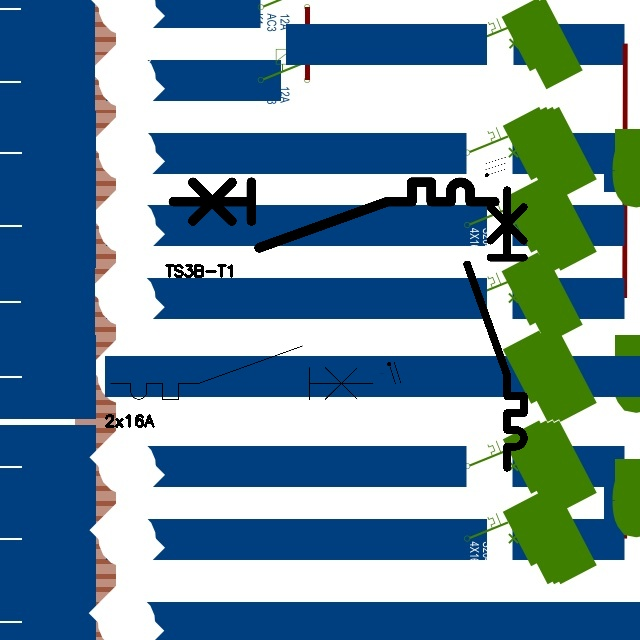interruptor_termomagnetico: (165, 174, 503, 256), (460, 183, 531, 475), (104, 339, 380, 406)
